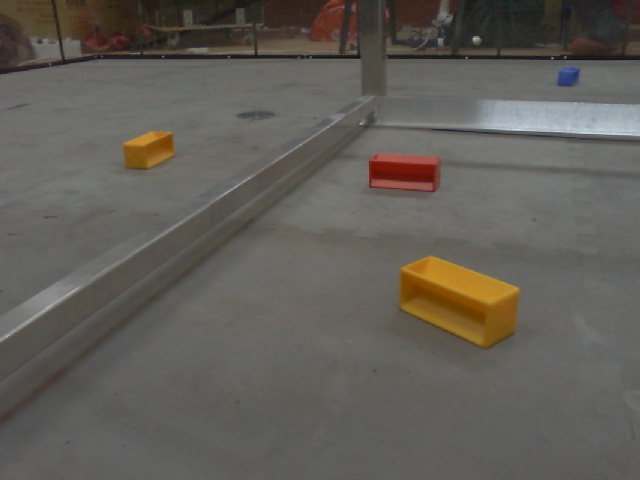BlueSample: (553, 64, 581, 88)
RedSample: (366, 151, 442, 194)
YellowSample: (399, 252, 521, 350), (119, 129, 177, 167)
